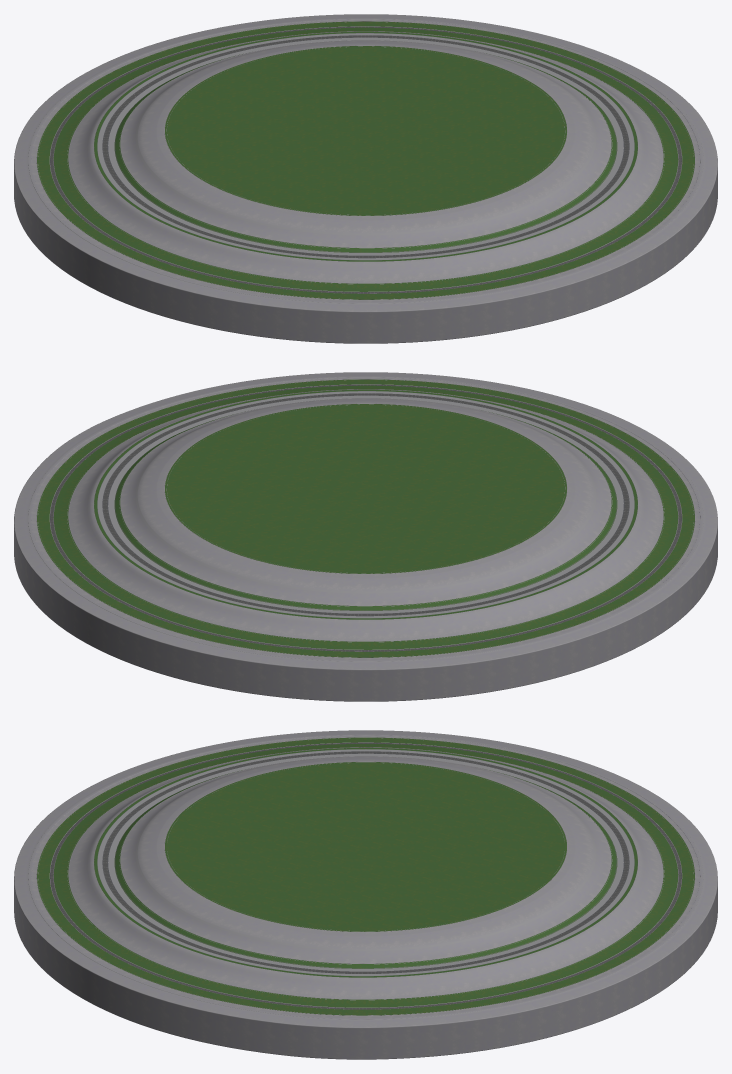
File: SM_Disc_Platform_02.fbx
3 renders of one model, top to bottom at view 1: azimuth 30°, elevation 25°; view 2: azimuth 150°, elevation 25°; view 3: azimuth 270°, elevation 25°, orthographic.
Parts seen in each view (by area): view 1: SM_Disc_Platform_02_LOD0; view 2: SM_Disc_Platform_02_LOD0; view 3: SM_Disc_Platform_02_LOD0.
Boxes of the visible parts, box(x1,y1,x2,y2) form: SM_Disc_Platform_02_LOD0: box(14, 14, 717, 343); SM_Disc_Platform_02_LOD0: box(14, 372, 717, 701); SM_Disc_Platform_02_LOD0: box(14, 730, 717, 1059).
Bounding box in the file's own units: 12000 × 12000 × 1207.
Materials: 3 (3 with a texture image).
